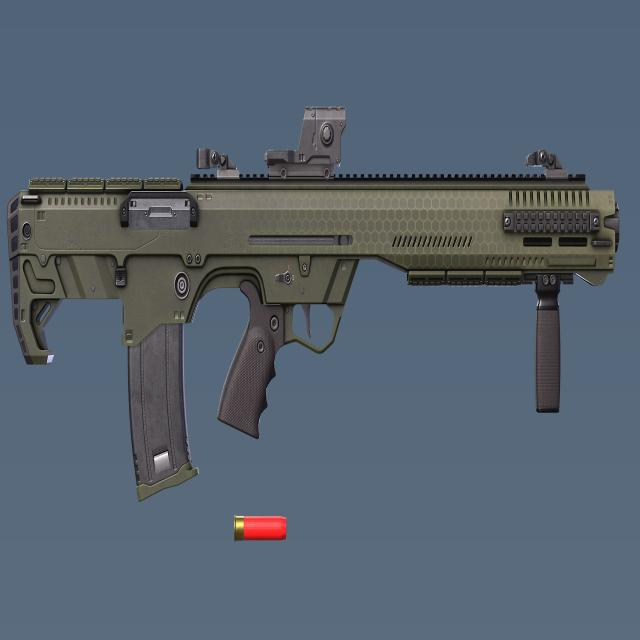ShotGun: (8, 108, 622, 501)
